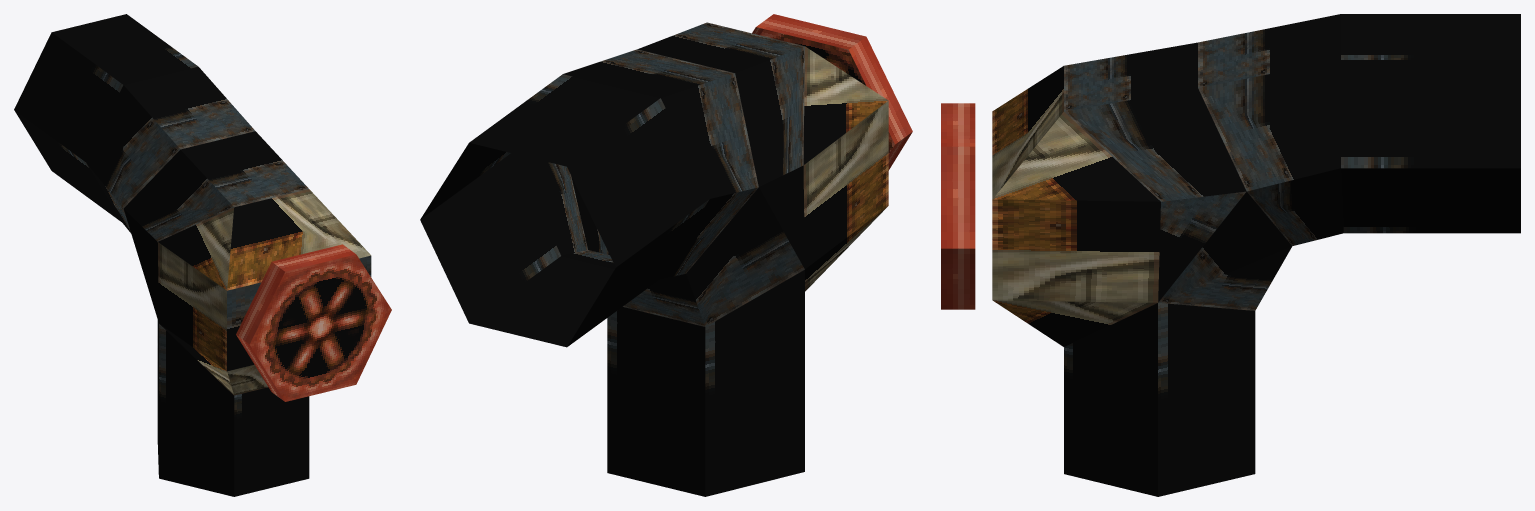
The picture shows the model from 3 angles, left to right: view 1: azimuth 30°, elevation 25°; view 2: azimuth 150°, elevation 25°; view 3: azimuth 270°, elevation 25°; orthographic projection. The views are drawn at different scales.
Parts seen in each view (by area): view 1: prim196-valve handle; view 2: prim196-valve handle; view 3: prim196-valve handle.
Boxes of the visible parts, x1,y1,x2,y2 form: prim196-valve handle: (14,14,391,496); prim196-valve handle: (420,14,912,496); prim196-valve handle: (941,14,1520,496).
Size of the model in its own units: 76 by 160 by 203.
2 materials, 2 textured.
